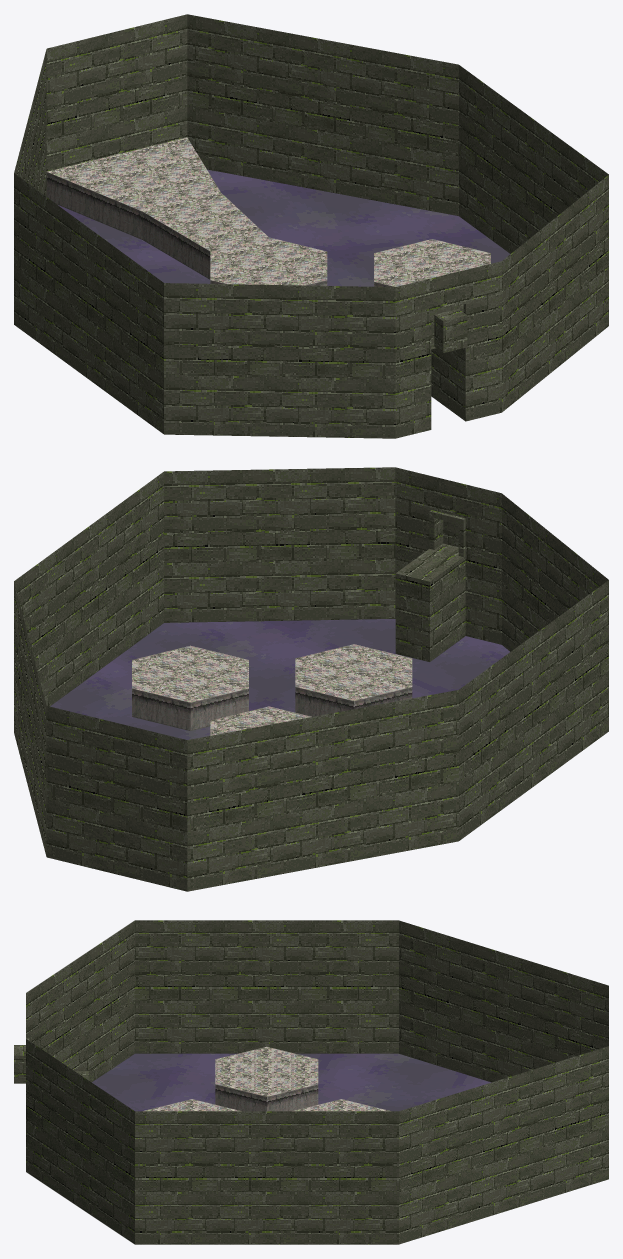
File: toad_room.obj
3 renders of one model, top to bottom at view 1: azimuth 30°, elevation 25°; view 2: azimuth 150°, elevation 25°; view 3: azimuth 270°, elevation 25°, orthographic. The views are drawn at different scales.
Parts seen in each view (by area): view 1: Mesh6 Model, Mesh2 Group2 Model, Mesh4 Group4 Model, Mesh5 Group5 Model; view 2: Mesh6 Model, Mesh5 Group5 Model, Mesh1 Group1 Model, Mesh4 Group4 Model; view 3: Mesh6 Model, Mesh3 Group3 Model, Mesh1 Group1 Model, Mesh4 Group4 Model.
Part boxes in pixels (x1=…): Mesh6 Model: x1=14, y1=14, x2=608, y2=438; Mesh2 Group2 Model: x1=46, y1=137, x2=268, y2=279; Mesh4 Group4 Model: x1=210, y1=237, x2=327, y2=285; Mesh5 Group5 Model: x1=374, y1=239, x2=490, y2=286; Mesh6 Model: x1=14, y1=467, x2=608, y2=891; Mesh5 Group5 Model: x1=132, y1=645, x2=248, y2=730; Mesh1 Group1 Model: x1=295, y1=644, x2=412, y2=716; Mesh4 Group4 Model: x1=210, y1=706, x2=311, y2=735; Mesh6 Model: x1=14, y1=920, x2=608, y2=1244; Mesh3 Group3 Model: x1=215, y1=1046, x2=318, y2=1111; Mesh1 Group1 Model: x1=143, y1=1099, x2=241, y2=1111; Mesh4 Group4 Model: x1=292, y1=1099, x2=390, y2=1111.
Bounding box in the file's own units: 1439 × 468 × 1895.
4 materials, 4 textured.
